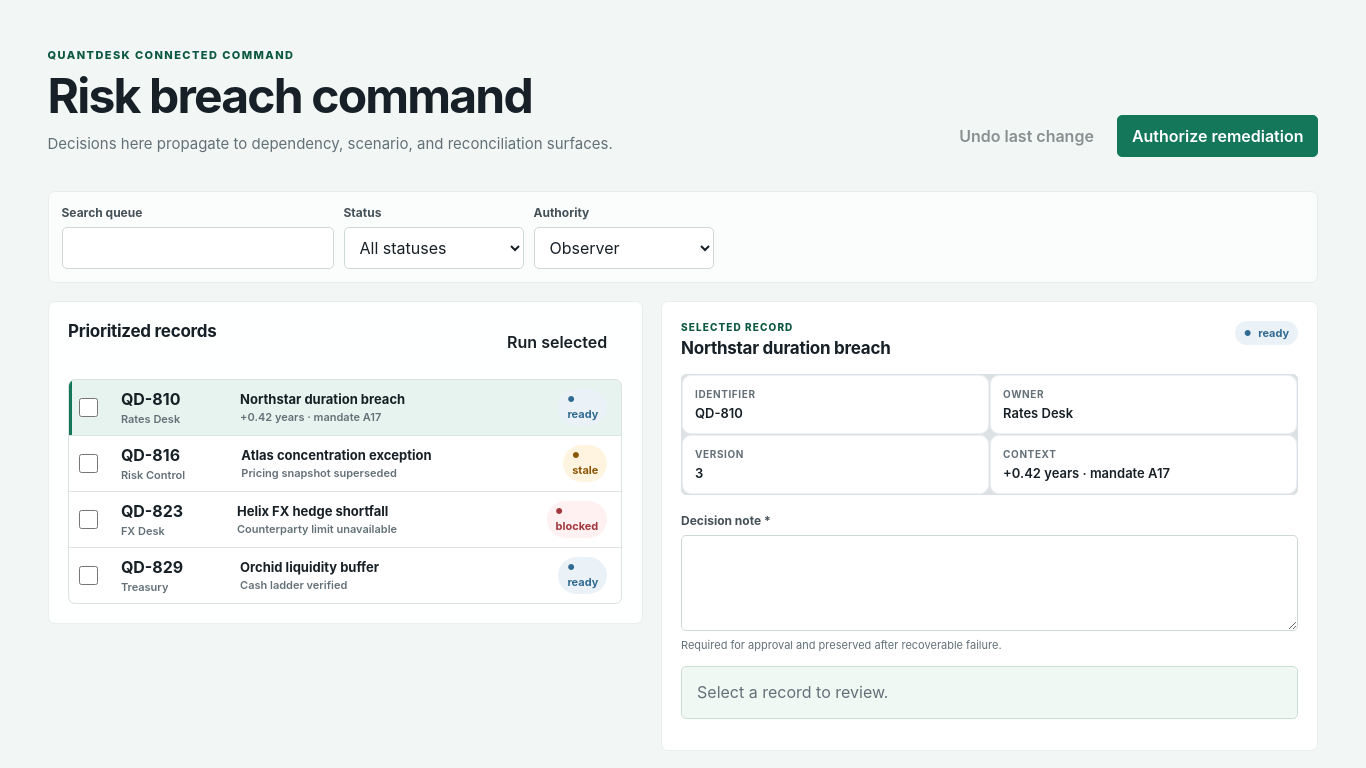
Scenario: Risk breach command › filters the queue and offers recovery from an empty result
The width and height of the screenshot is (1366, 768).
Step 1. Type "not-present" into the field labelled "Search queue" → (198, 248), box 62,227 -> 334,269
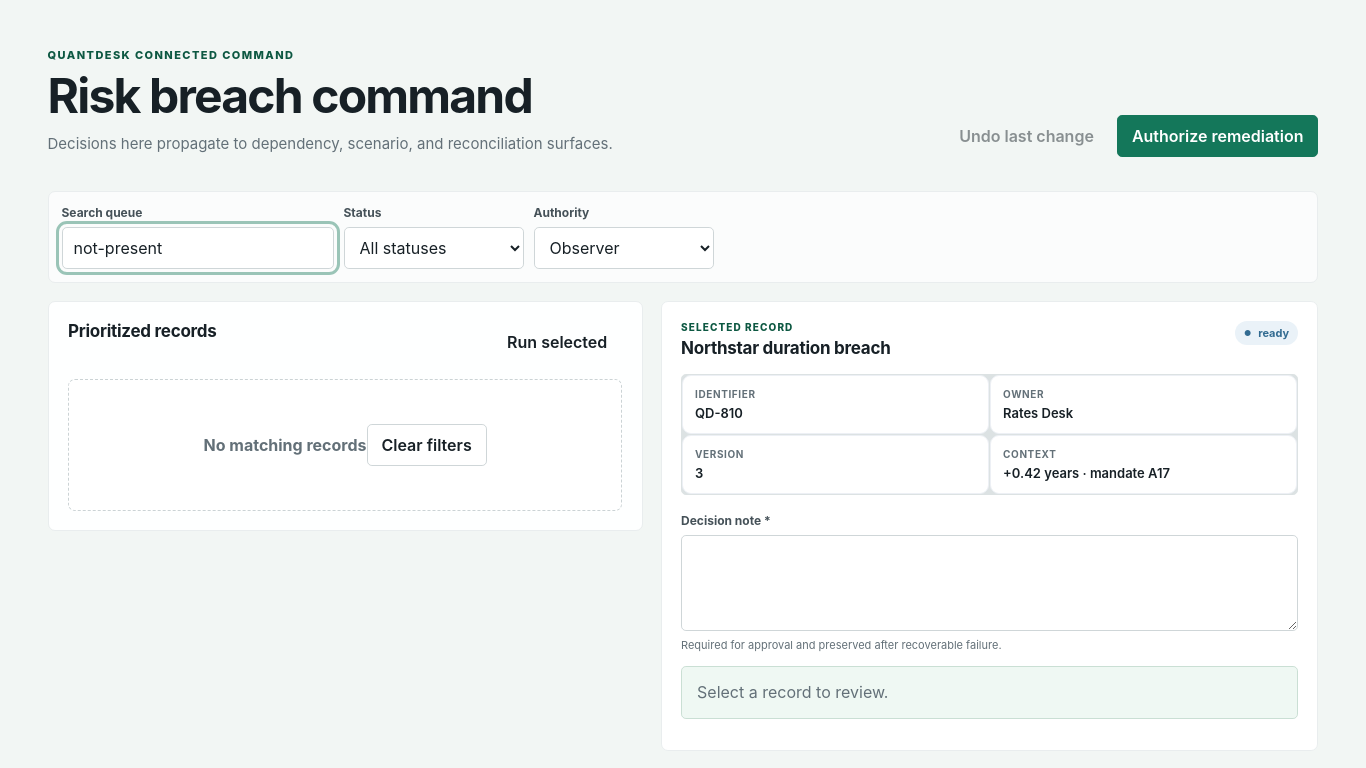
Result: the text "No matching records" is shown at 204,435 -> 366,455
Step 2. Click the button "Clear filters" → (427, 445), box 366,424 -> 487,466
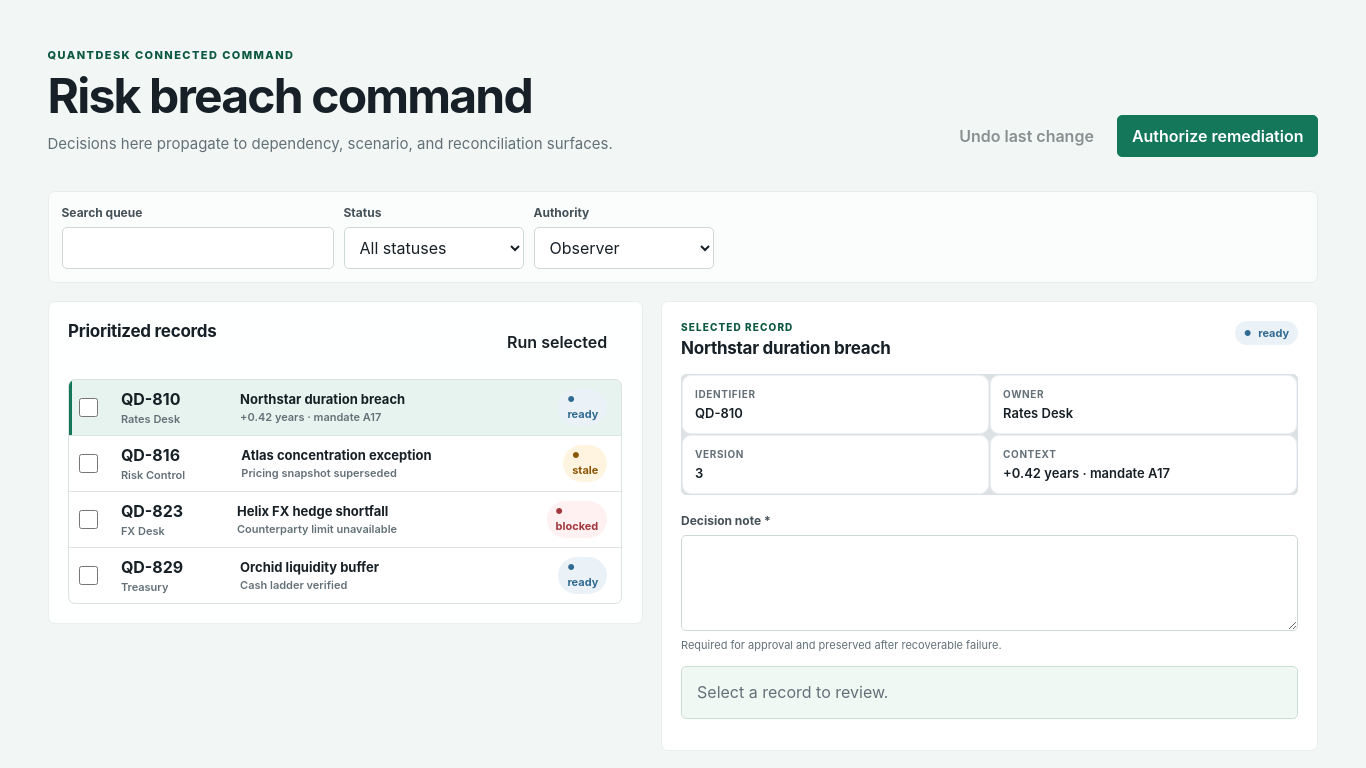
Result: the text "Northstar duration breach" is shown 2 times at 240,391 -> 405,407; 681,338 -> 890,358
